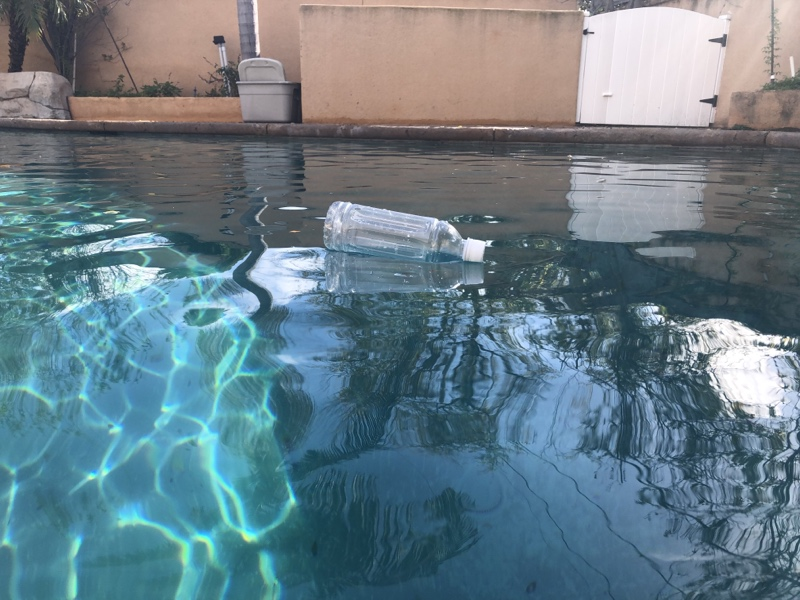Plastic Bottle: (321, 193, 488, 273)
